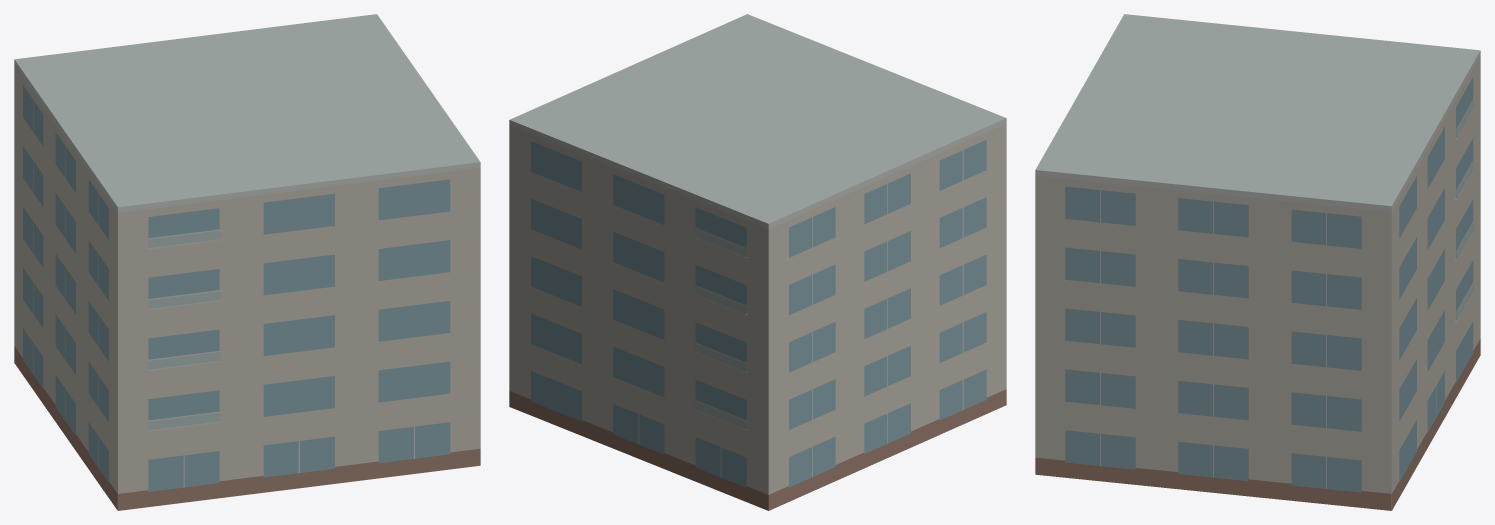
Rendered from survey-upis-32546181.glb.
3 views of the same model, side by side, from view 1: azimuth 30°, elevation 25°; view 2: azimuth 150°, elevation 25°; view 3: azimuth 270°, elevation 25° (orthographic). The views are drawn at different scales.
Visible parts, largest first — view 1: survey-upis-32546181.tmp; view 2: survey-upis-32546181.tmp; view 3: survey-upis-32546181.tmp.
Part boxes in pixels (bbox=[...]): survey-upis-32546181.tmp: bbox=[14, 14, 480, 510]; survey-upis-32546181.tmp: bbox=[509, 14, 1006, 510]; survey-upis-32546181.tmp: bbox=[1035, 14, 1480, 510].
Bounding box in the file's own units: 17.87 × 13.2 × 17.5.
